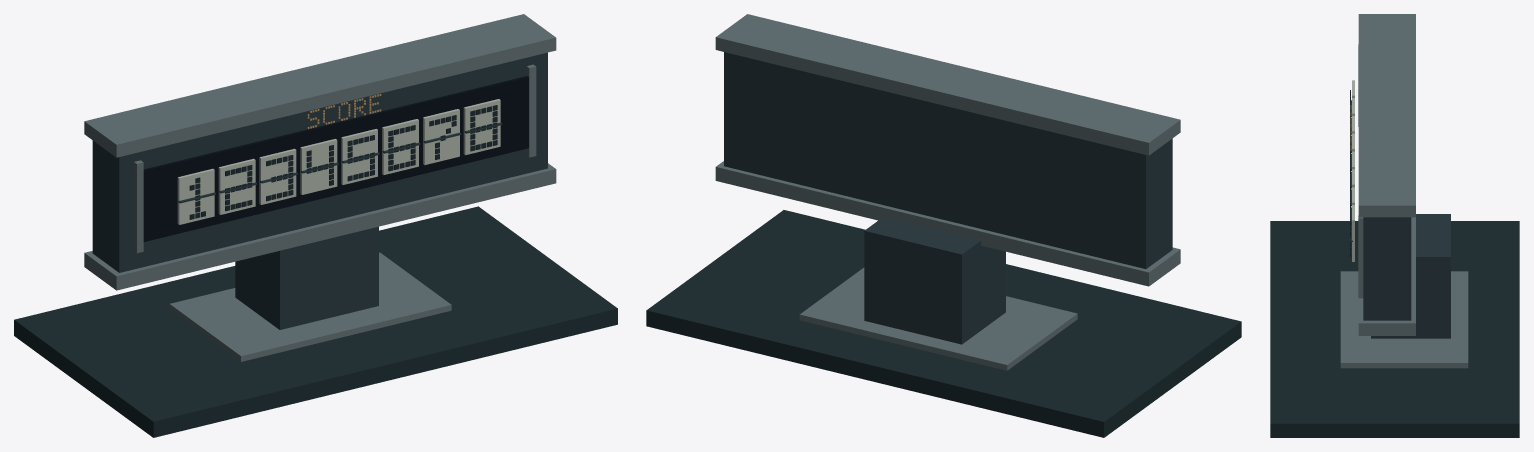
Rendered from splitflap_scoreboard_d0_lod2.glb.
The picture shows the model from 3 angles, left to right: view 1: azimuth 30°, elevation 25°; view 2: azimuth 150°, elevation 25°; view 3: azimuth 270°, elevation 25°; orthographic projection. The views are drawn at different scales.
Parts seen in each view (by area): view 1: SCOREBOARD_DISTANCE_GEOMETRY; view 2: SCOREBOARD_DISTANCE_GEOMETRY; view 3: SCOREBOARD_DISTANCE_GEOMETRY.
Part boxes in pixels (<box>): SCOREBOARD_DISTANCE_GEOMETRY: <box>14,14,617,437</box>; SCOREBOARD_DISTANCE_GEOMETRY: <box>646,14,1241,437</box>; SCOREBOARD_DISTANCE_GEOMETRY: <box>1270,14,1519,437</box>.
Size of the model in its own units: 7.5 by 3.92 by 3.9.
